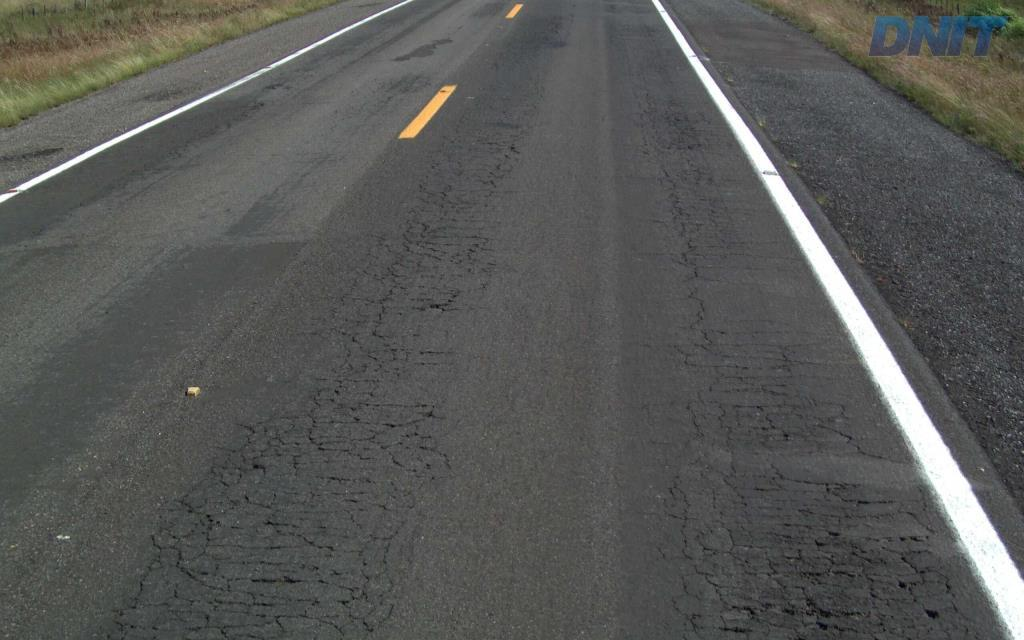crack: (794, 585, 871, 638), (168, 544, 224, 591), (798, 551, 855, 587), (752, 413, 809, 449), (814, 482, 893, 507)
